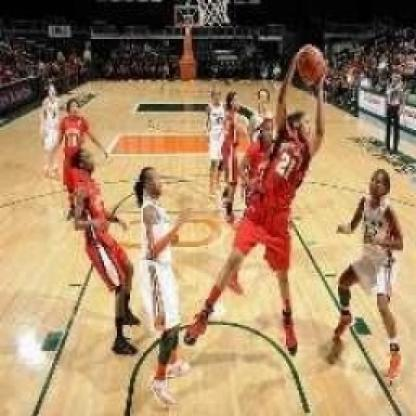basketball: (295, 44, 326, 84)
